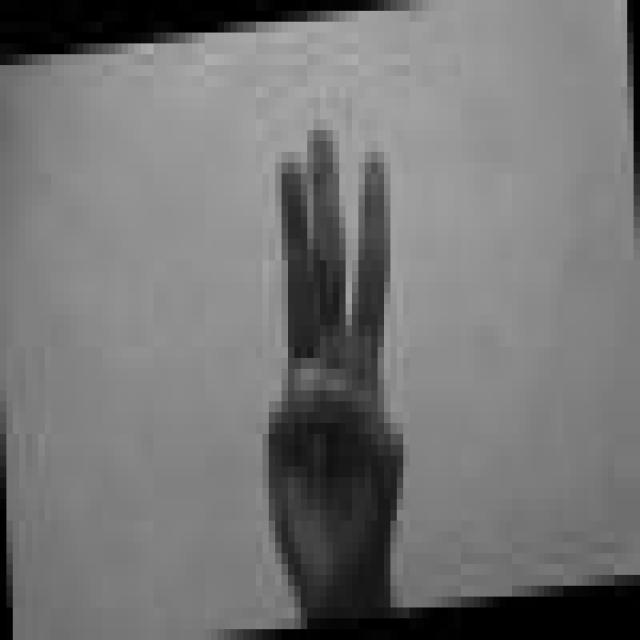W: (262, 120, 410, 608)
